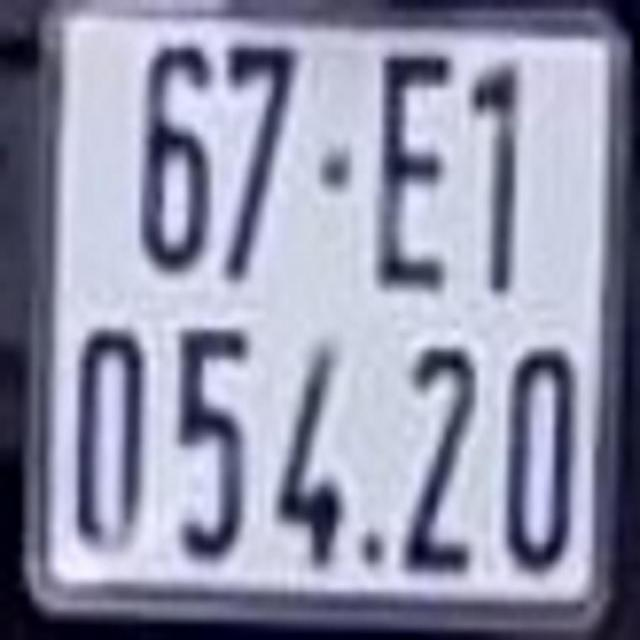0: (498, 331, 577, 576), (75, 317, 146, 548)
1: (468, 52, 529, 294)
2: (403, 340, 477, 582)
4: (274, 332, 346, 572)
5: (172, 313, 250, 561)
6: (136, 34, 213, 271)
7: (224, 24, 295, 277)
E: (373, 49, 455, 289)
